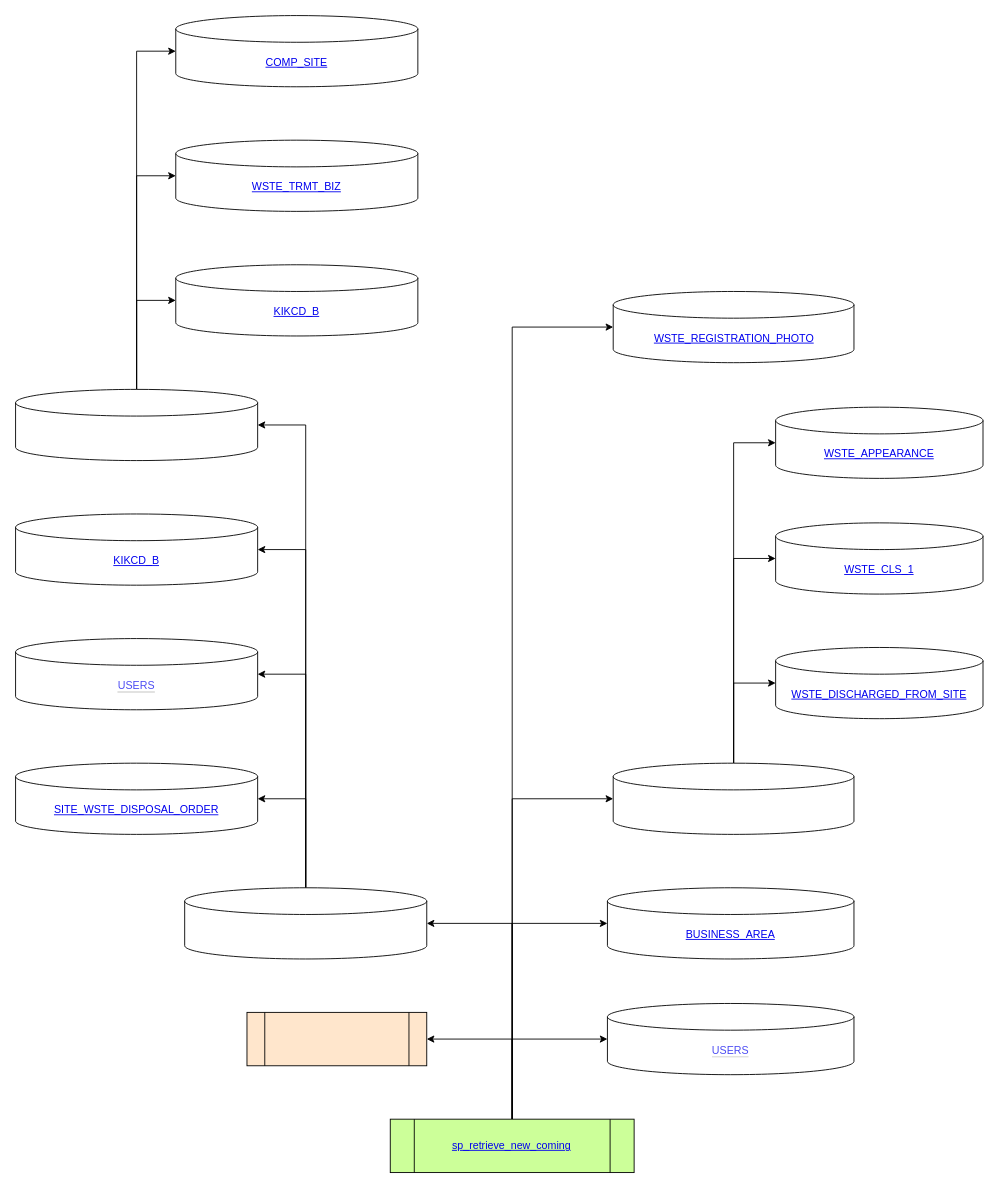
This 999x1188 diagram has some shape labels left out. Each missing label, with the centre of its shape:
"sp_return_results" goes at point 336,1038.
"V_COMP_SITE" goes at point 136,424.
"V_SITE_WSTE_DISPOSAL_ORDER" goes at point 305,923.
"V_WSTE_DISCHARGED_FROM_SITE" goes at point 733,798.
